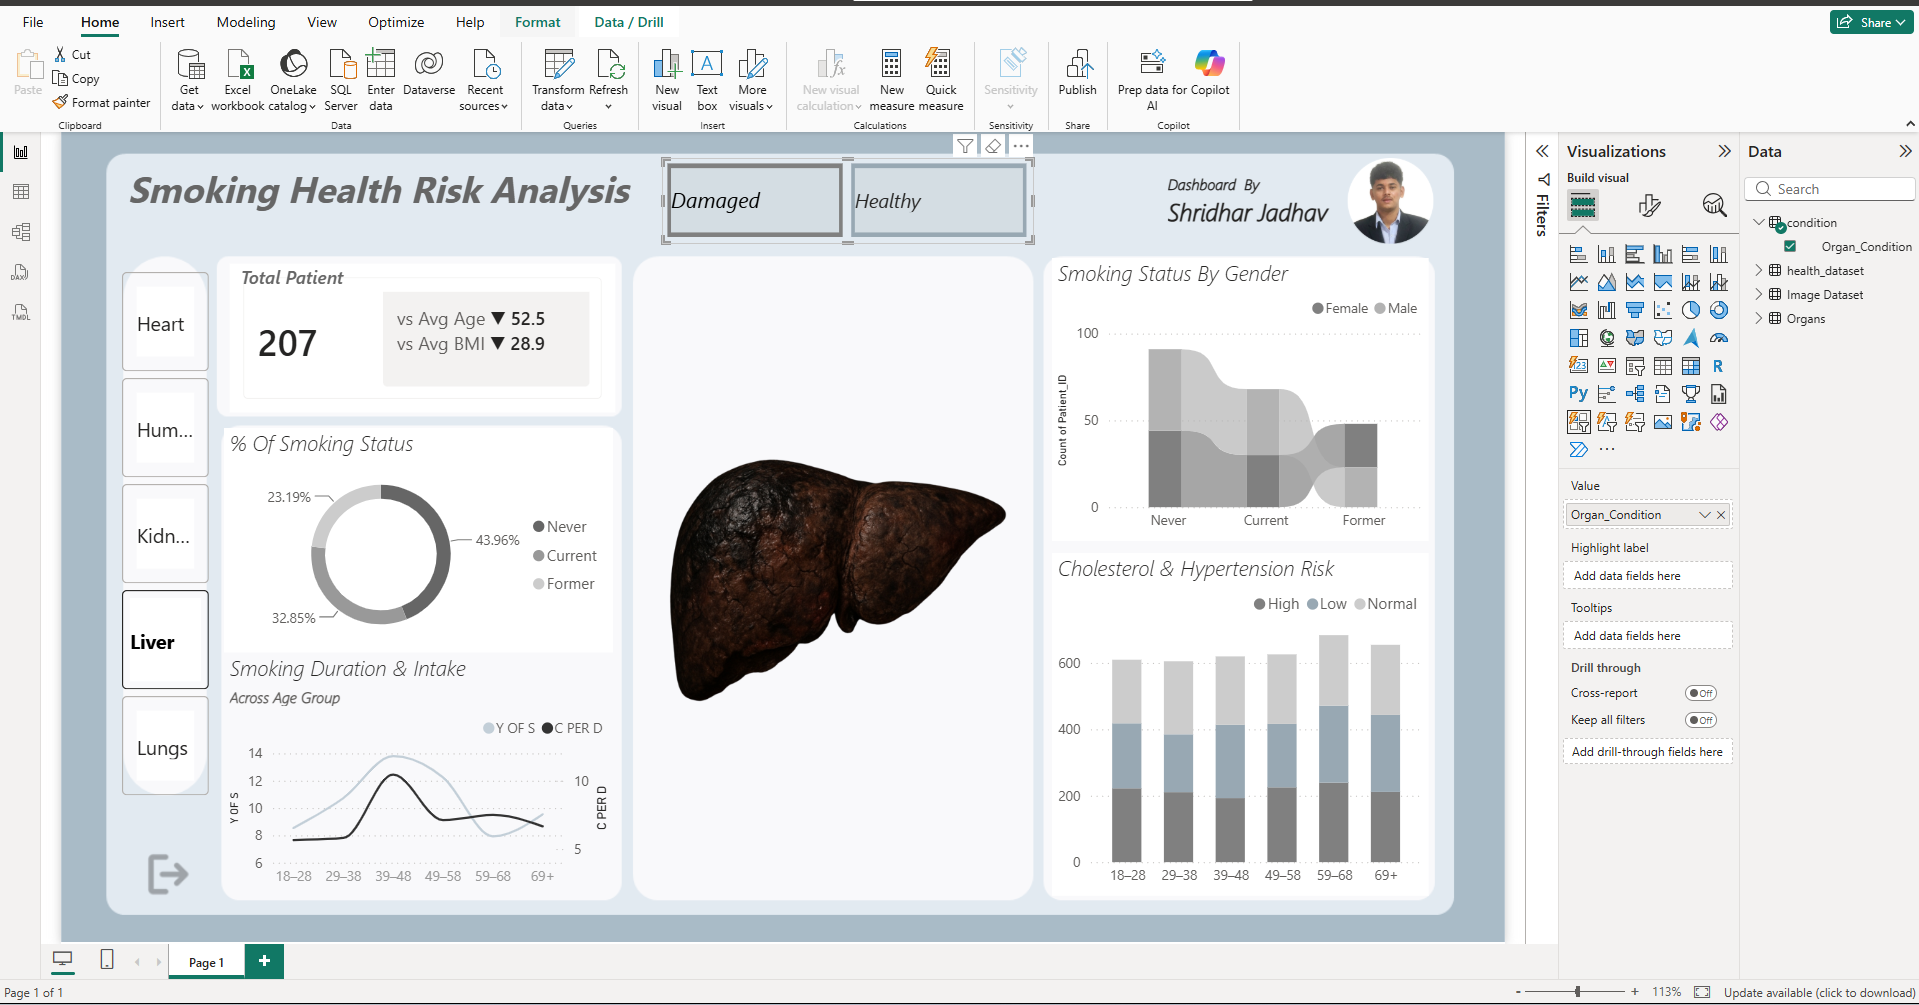

The dashboard page shown, as its layout file describes it:
{"tool":"powerbi","page":{"name":"Page 1","canvas":[1280,720],"ordinal":0},"visuals":[{"type":"cardVisual","fields":{"Data":["CountNonNull(health_dataset.Patient_ID)"]},"box":[144.9,111.9,352.1,142],"z":0},{"type":"textbox","box":[154.7,112.3,138.7,37.7],"z":1000},{"type":"advancedSlicerVisual","fields":{"Values":["condition.Organ_Condition"]},"box":[533,23.3,329.7,75.9],"z":2000},{"type":"advancedSlicerVisual","fields":{"Values":["Organs.Organ"]},"box":[54.5,124.5,77.8,466.9],"z":3000},{"type":"image","box":[506.7,111.9,356,566.1],"z":4000},{"type":"donutChart","title":"% Of Smoking Status","fields":{"Category":["health_dataset.Smoking_Status"],"Y":["CountNonNull(health_dataset.Smoking_Status)"]},"box":[144.9,262.6,345.3,199.4],"z":5000},{"type":"lineChart","title":"Smoking Duration & Intake","fields":{"Category":["health_dataset.Age Group"],"Y":["Avg(health_dataset.Years_of_Smoking)"],"Y2":["Avg(health_dataset.Cigarettes_Per_Day)"]},"box":[144.9,462,345.3,215.9],"z":6000},{"type":"ribbonChart","title":"Smoking Status By Gender","fields":{"Category":["health_dataset.Smoking_Status"],"Y":["CountNonNull(health_dataset.Patient_ID)"],"Series":["health_dataset.Gender"]},"box":[878.3,111.9,333.6,250.9],"z":7000},{"type":"columnChart","title":"Cholesterol & Hypertension Risk","fields":{"Category":["health_dataset.Age Group"],"Y":["Avg(health_dataset.Cholesterol_Level)"],"Series":["health_dataset.BP_Risk"]},"box":[878.3,373.5,333.6,304.4],"z":8000},{"type":"textbox","box":[54.5,23.3,466.9,75.9],"z":9000},{"type":"image","box":[1119.5,23.3,117.7,75.9],"z":10000},{"type":"textbox","box":[976.3,23.1,158.7,76.3],"z":11000}]}

Visuals, with their boxes on the page's 1280x720 design canvas (x1, y1, x2, y2). These are canvas units, not pixel positions in the 1919x1005 screenshot, which may show the page scaled, cropped or inside an application window:
cardVisual - CountNonNull(health_dataset.Patient_ID): 145,112,497,254
textbox: 155,112,293,150
advancedSlicerVisual - condition.Organ_Condition: 533,23,863,99
advancedSlicerVisual - Organs.Organ: 54,124,132,591
image: 507,112,863,678
"% Of Smoking Status" donutChart: 145,263,490,462
"Smoking Duration & Intake" lineChart: 145,462,490,678
"Smoking Status By Gender" ribbonChart: 878,112,1212,363
"Cholesterol & Hypertension Risk" columnChart: 878,374,1212,678
textbox: 54,23,521,99
image: 1120,23,1237,99
textbox: 976,23,1135,99
